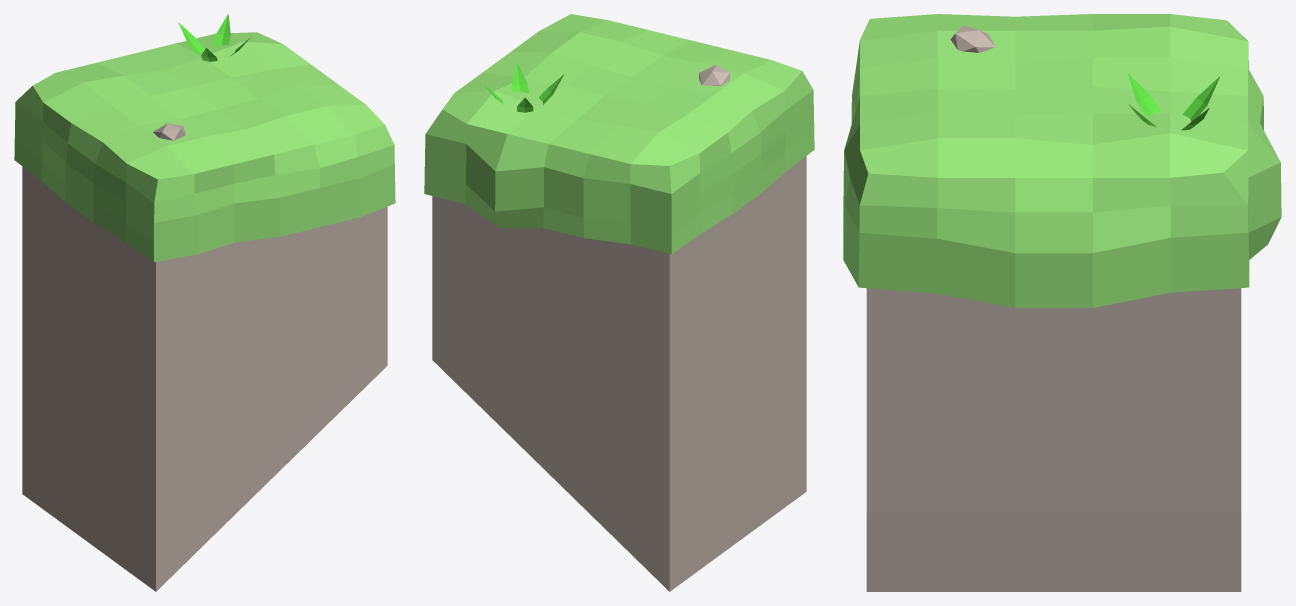
The model's file is islaSingle.fbx.
3 renders of one model, left to right at view 1: azimuth 30°, elevation 25°; view 2: azimuth 150°, elevation 25°; view 3: azimuth 270°, elevation 25°, orthographic. The views are drawn at different scales.
Visible parts, largest first — view 1: Cube; view 2: Cube; view 3: Cube.
Boxes of the visible parts, left/top/right/bottom form: Cube: left=14, top=14, right=395, bottom=591; Cube: left=424, top=14, right=814, bottom=591; Cube: left=843, top=14, right=1281, bottom=591.
Size of the model in its own units: 228 by 363 by 234.
